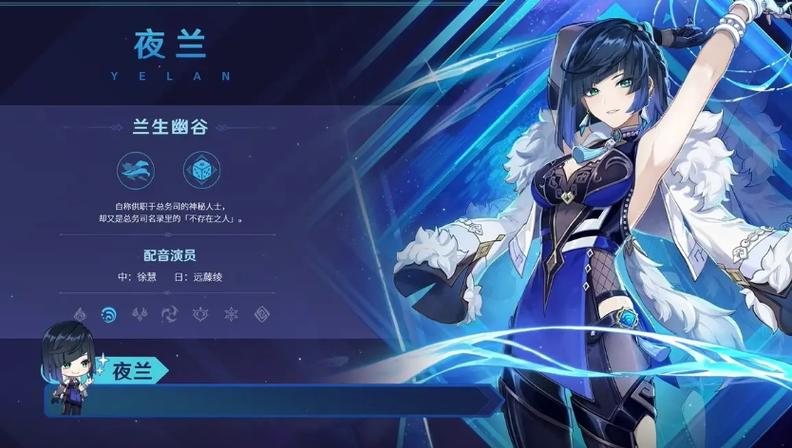夜兰: (501, 1, 790, 443)
